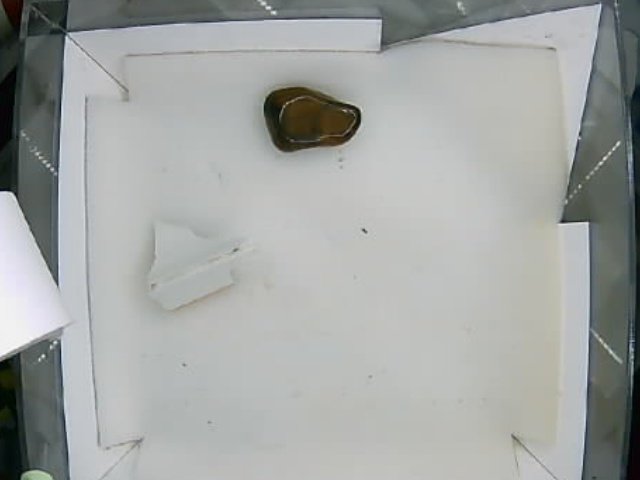China: (144, 219, 257, 306)
Pebble: (261, 86, 362, 153)
